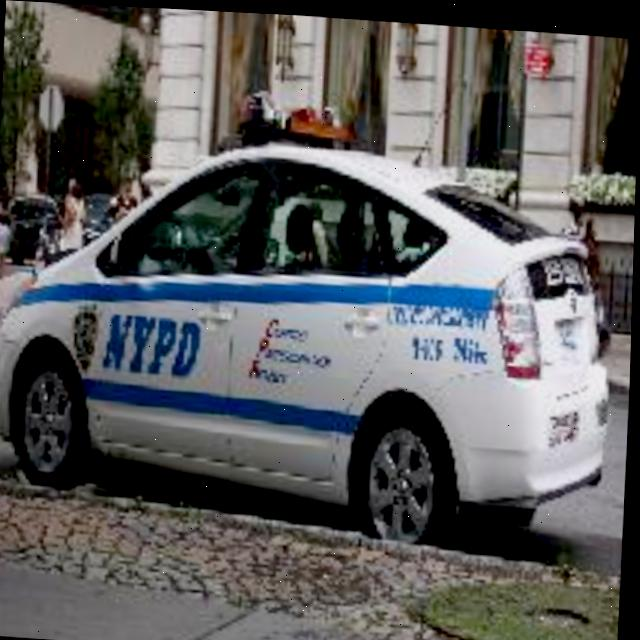emergency: (0, 76, 604, 556)
